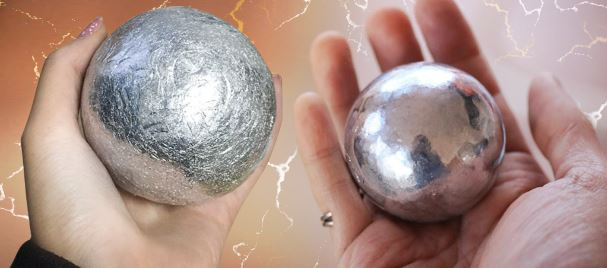Alive: (313, 30, 537, 232), (80, 2, 269, 197)
